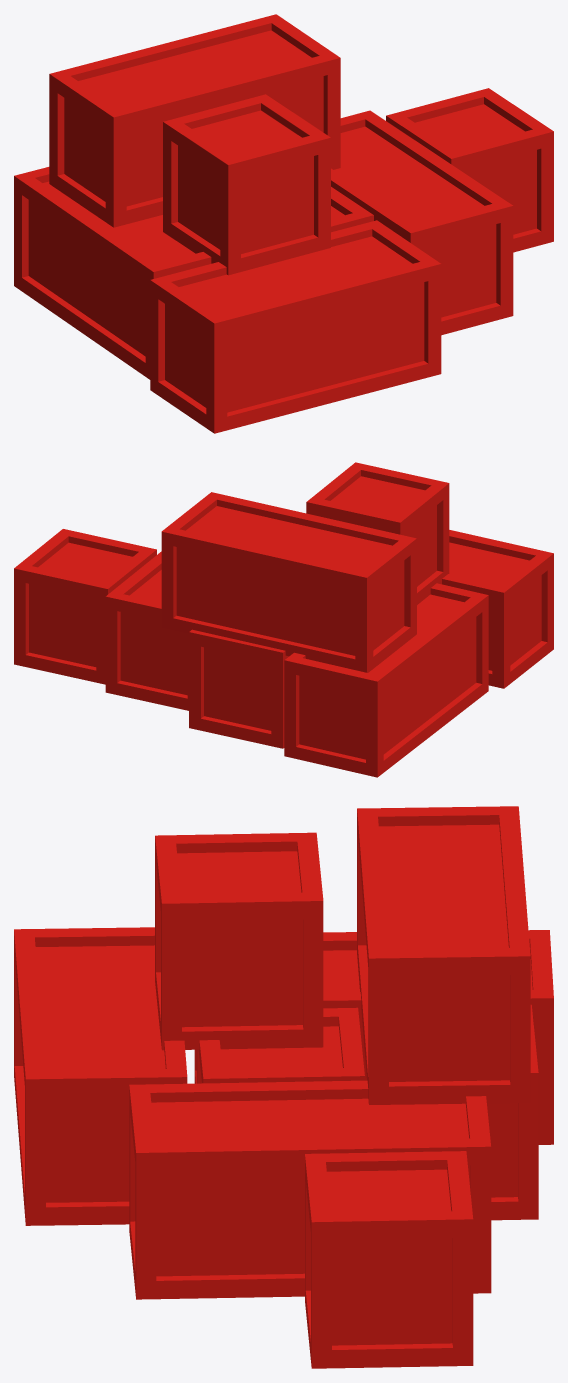
3 renders of one model, top to bottom at view 1: azimuth 30°, elevation 25°; view 2: azimuth 150°, elevation 25°; view 3: azimuth 270°, elevation 25°, orthographic. The views are drawn at different scales.
Visible parts, largest first — view 1: Cube.040; view 2: Cube.040; view 3: Cube.040.
Boxes of the visible parts, x1,y1,x2,y2 form: Cube.040: (14,14,553,433); Cube.040: (14,462,553,777); Cube.040: (14,806,553,1368).
Size of the model in its own units: 565 by 255 by 437.
